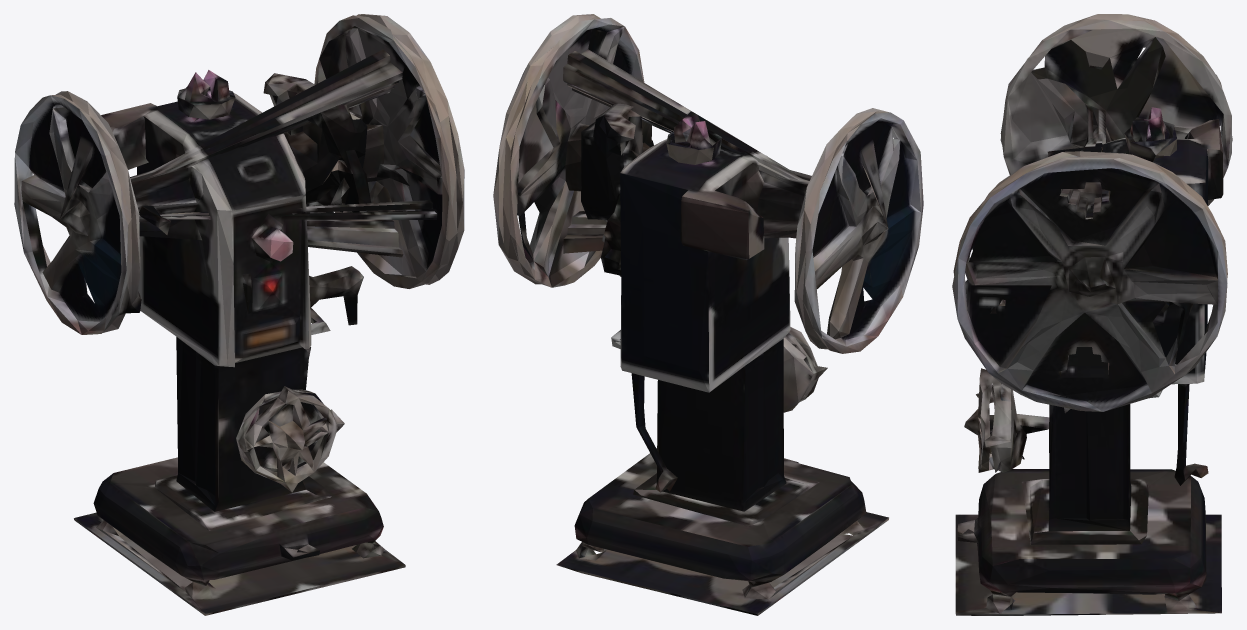
Rendered from film_projector.glb.
3 views of the same model, side by side, from view 1: azimuth 30°, elevation 25°; view 2: azimuth 150°, elevation 25°; view 3: azimuth 270°, elevation 25° (orthographic).
Parts seen in each view (by area): view 1: textured_mesh.obj; view 2: textured_mesh.obj; view 3: textured_mesh.obj.
Part boxes in pixels (bbox=[...]): textured_mesh.obj: bbox=[14, 14, 464, 615]; textured_mesh.obj: bbox=[493, 14, 923, 615]; textured_mesh.obj: bbox=[952, 14, 1232, 615].
Size of the model in its own units: 1.13 by 1.5 by 0.782.
Materials: 1 (1 with a texture image).
